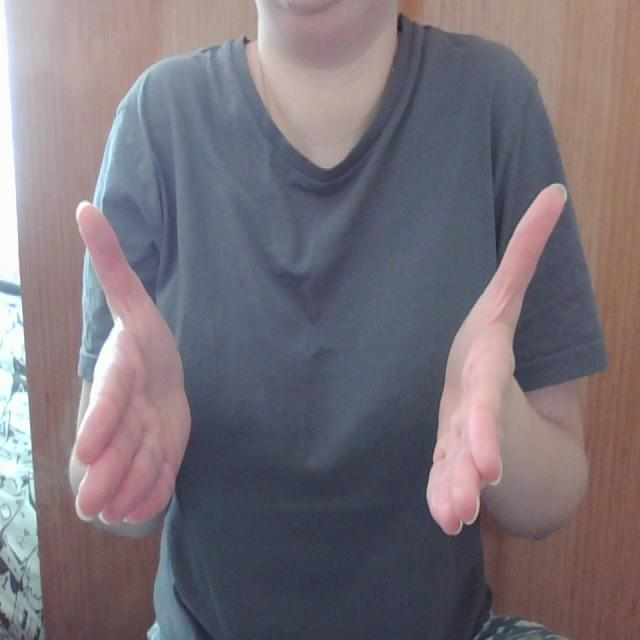Nasil: (63, 187, 587, 571)
